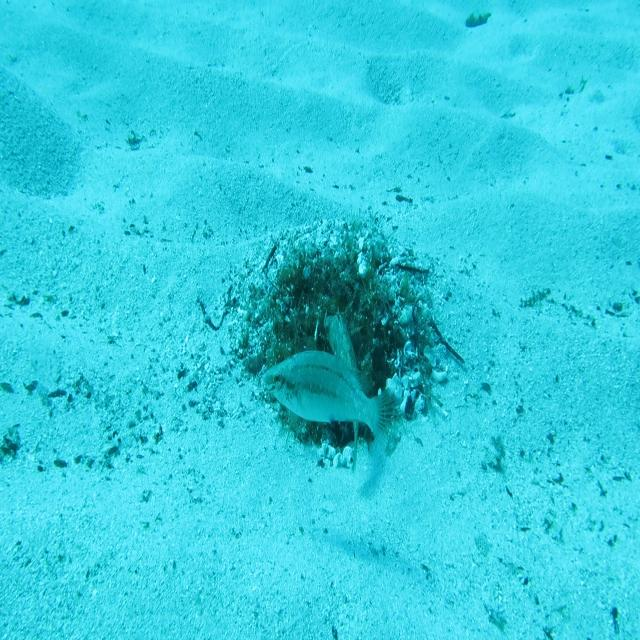FAN: (322, 304, 361, 477)
core_nest: (306, 272, 359, 310)
female: (260, 348, 401, 462)
nest: (222, 218, 449, 484)
vegetation: (464, 12, 492, 29)
